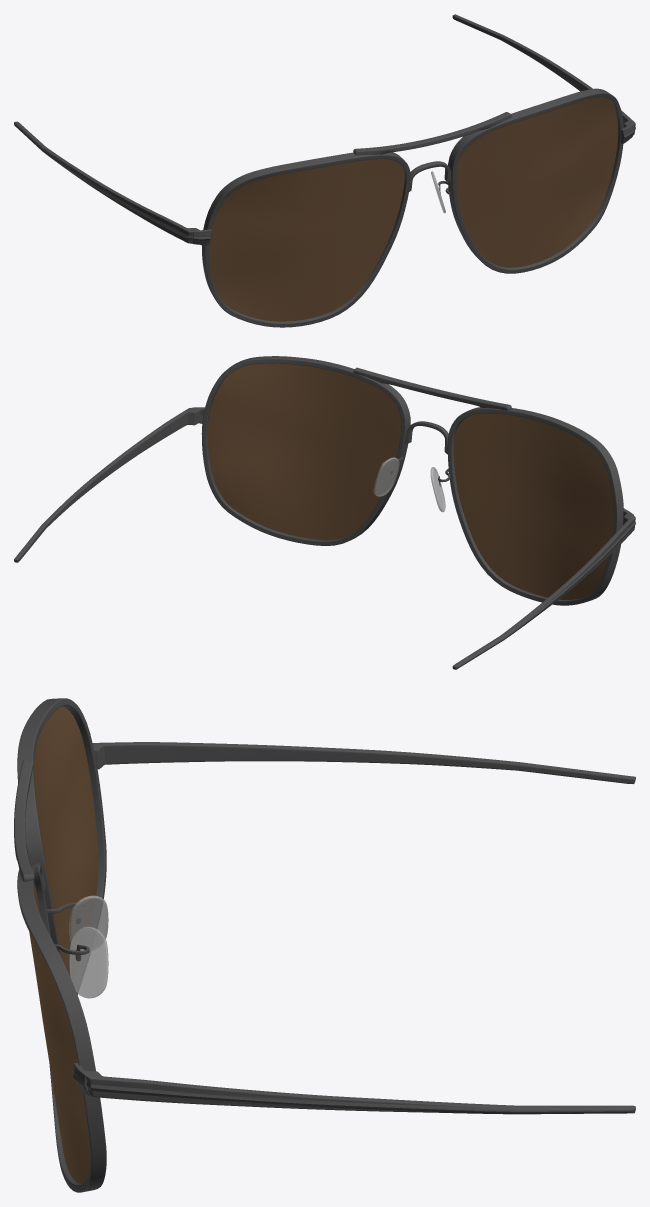
The model's file is Chrm_com_maps.glb.
3 renders of one model, top to bottom at view 1: azimuth 30°, elevation 25°; view 2: azimuth 150°, elevation 25°; view 3: azimuth 270°, elevation 25°, orthographic. The views are drawn at different scales.
Visible parts, largest first — view 1: Lentes, armacao; view 2: Lentes, armacao, Pontes; view 3: armacao, Lentes, Pontes.
Part boxes in pixels (box(x1,y1,x2,y2)): Lentes: box(209, 97, 618, 321); armacao: box(14, 14, 635, 327); Lentes: box(207, 363, 613, 599); armacao: box(14, 356, 635, 669); Pontes: box(373, 457, 445, 512); armacao: box(14, 698, 635, 1192); Lentes: box(29, 706, 98, 1184); Pontes: box(69, 895, 108, 998).
Bounding box in the file's own units: 0.1573 × 0.0556 × 0.1173.
Materials: 3 (3 with a texture image).
